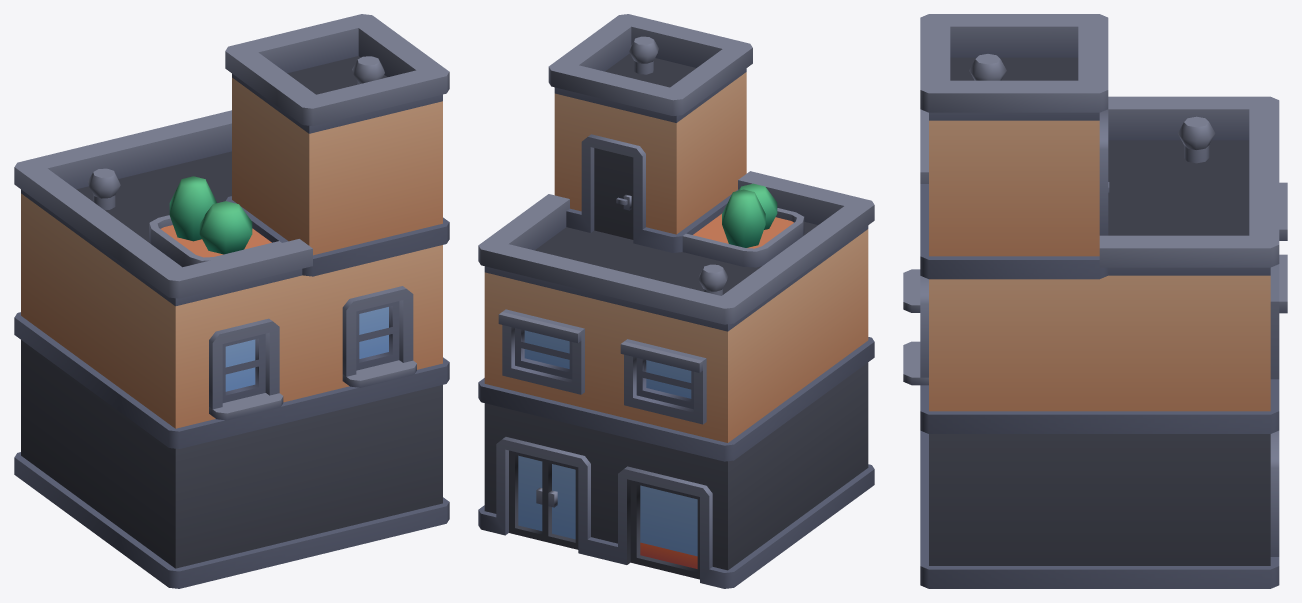
File: building-d.glb
The picture shows the model from 3 angles, left to right: view 1: azimuth 30°, elevation 25°; view 2: azimuth 150°, elevation 25°; view 3: azimuth 270°, elevation 25°; orthographic projection. The views are drawn at different scales.
Parts seen in each view (by area): view 1: building-d; view 2: building-d; view 3: building-d.
Boxes of the visible parts, x1=… form: building-d: x1=14, y1=14, x2=449, y2=588; building-d: x1=478, y1=14, x2=874, y2=588; building-d: x1=903, y1=14, x2=1287, y2=588.
Size of the model in its own units: 0.84 by 1.29 by 0.9.
Materials: 1 (1 with a texture image).
